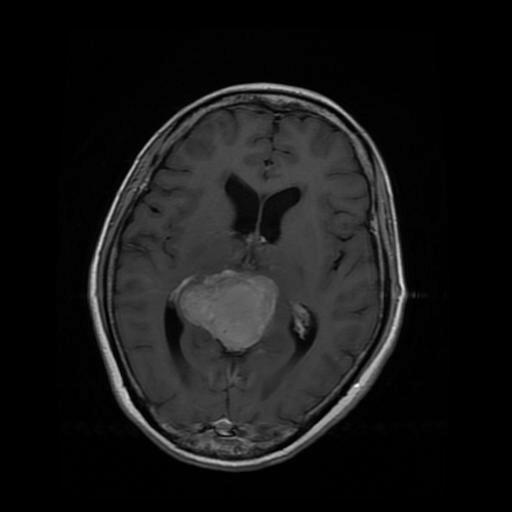Tumour-Meningioma: (167, 257, 286, 374)
